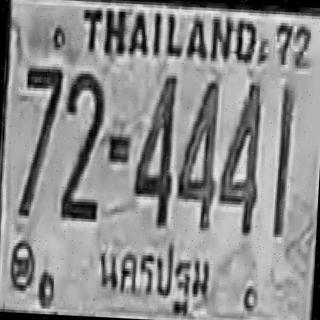N01: (272, 84, 296, 238), (272, 83, 296, 236)
N02: (59, 69, 105, 221)
N04: (216, 78, 264, 234), (131, 71, 177, 226), (175, 76, 221, 228)
N07: (18, 62, 62, 217)
P28: (90, 231, 218, 319)
